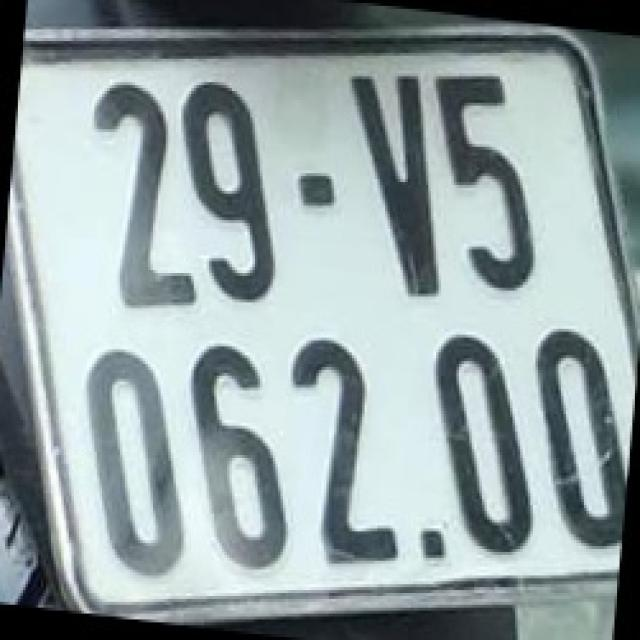0: (82, 345, 188, 580), (428, 329, 538, 555), (537, 324, 631, 550)
2: (288, 330, 406, 571), (87, 76, 199, 312)
5: (435, 62, 547, 294)
6: (186, 340, 291, 570)
9: (181, 77, 286, 306)
V: (348, 65, 448, 296)
